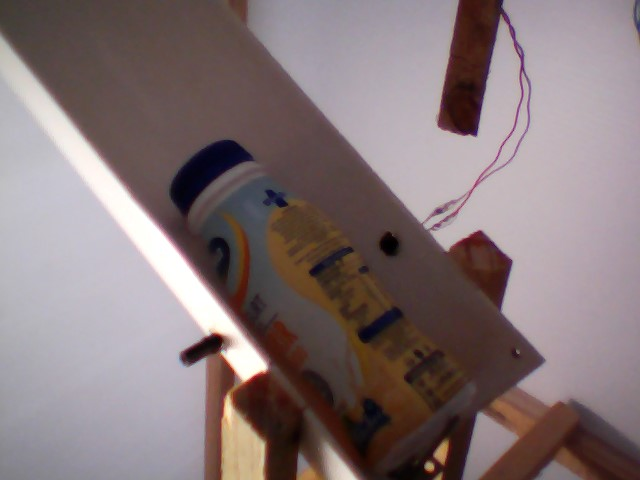plastico: (166, 137, 480, 480)
